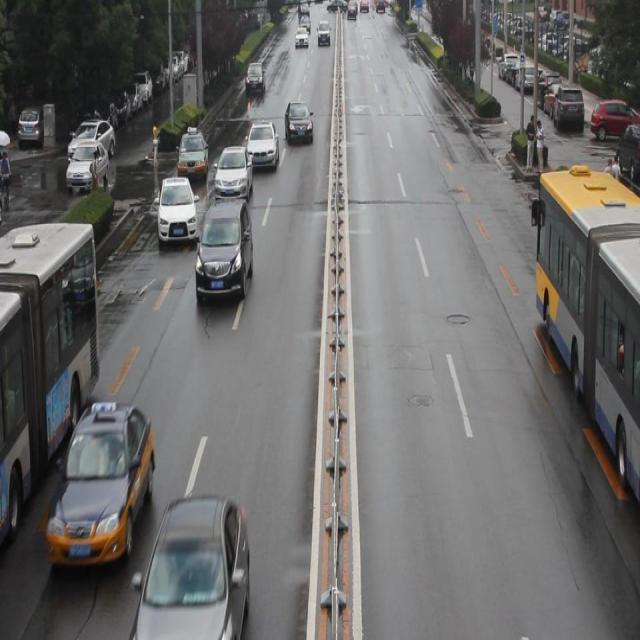car: (52, 405, 153, 567), (134, 499, 248, 640), (196, 202, 251, 303), (155, 176, 198, 248), (214, 146, 251, 210), (177, 124, 206, 182), (245, 123, 278, 172), (284, 104, 313, 145)
van: (530, 175, 640, 505), (0, 226, 99, 534)
